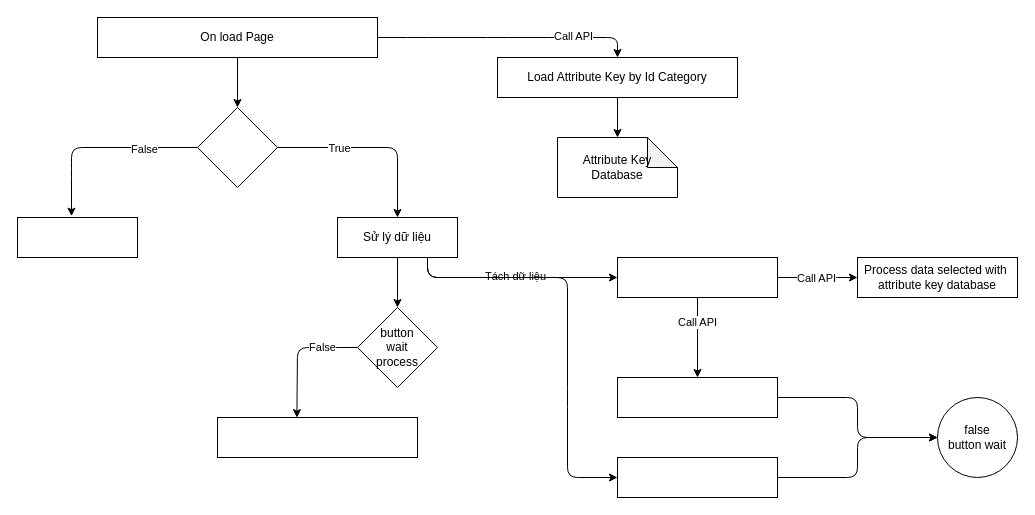
The diagram is 1035 pixels wide and 515 high, and some of its shapes have lost their labels. Each missing label, with the box of its shape:
Attribute key selected: (616, 256, 778, 298)
Attribute value selected: (616, 456, 778, 498)
Data Exists: (196, 106, 278, 188)
Load attribute value by Id Attribute Key: (616, 376, 778, 418)
